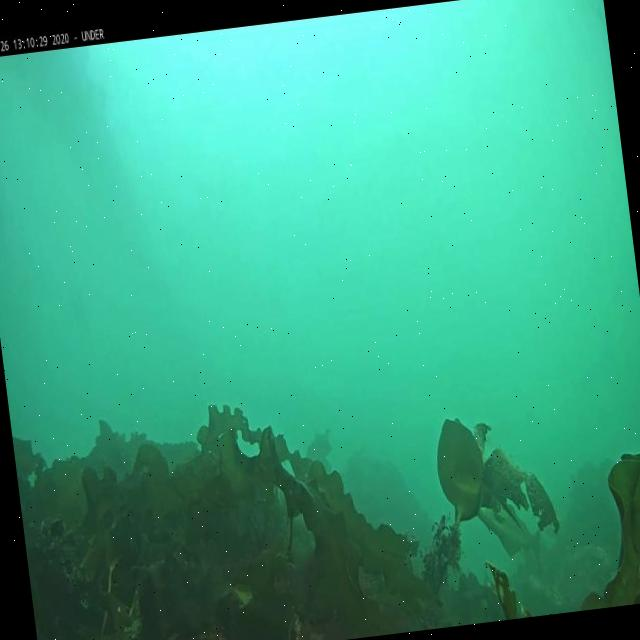fish: (472, 494, 540, 566)
